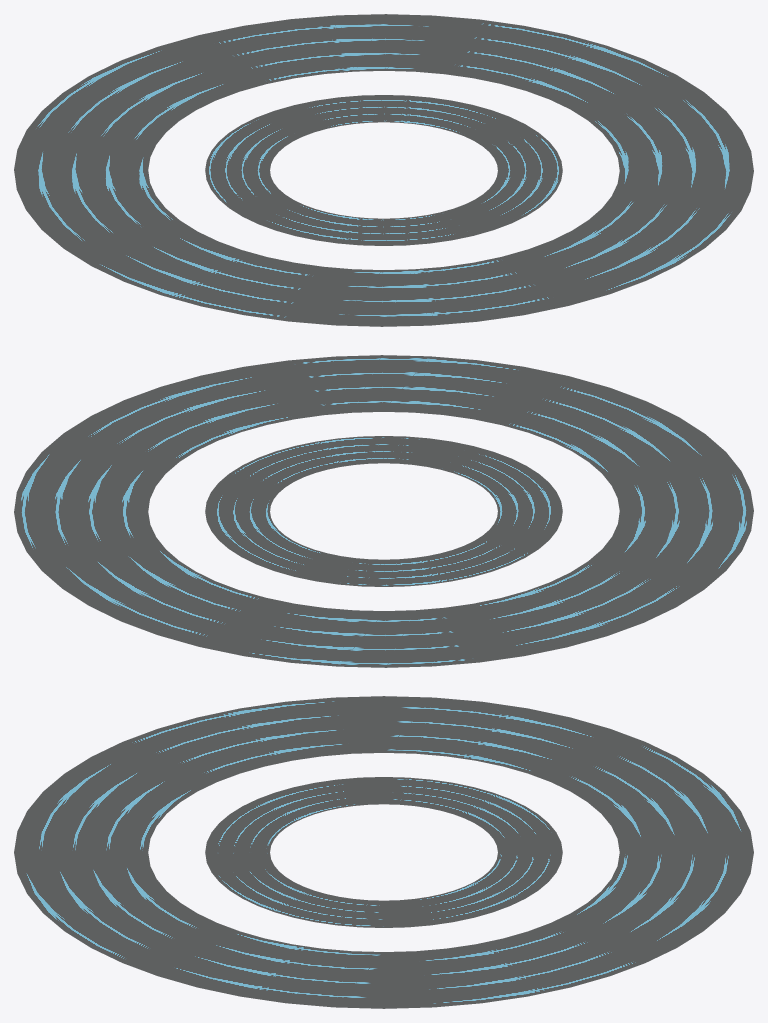
File: hover_model.glb
3 views of the same model, one above another, from view 1: azimuth 30°, elevation 25°; view 2: azimuth 150°, elevation 25°; view 3: azimuth 270°, elevation 25° (orthographic).
Visible parts, largest first — view 1: HoverMesh; view 2: HoverMesh; view 3: HoverMesh.
Boxes of the visible parts, x1,y1,x2,y2 form: HoverMesh: (14, 14, 753, 326); HoverMesh: (14, 355, 753, 667); HoverMesh: (14, 696, 753, 1008).
Size of the model in its own units: 1.1 by 6.71e-08 by 1.1.
Materials: 1 (1 with a texture image).
